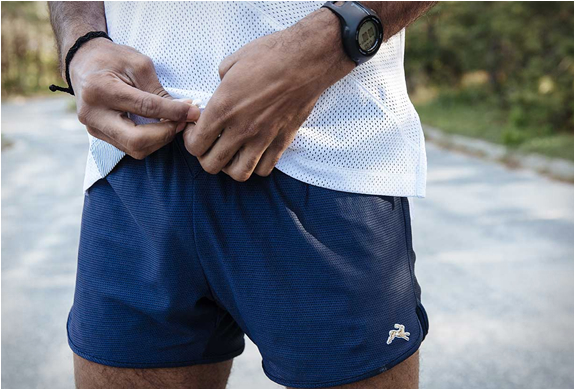egg: (57, 39, 517, 351)
